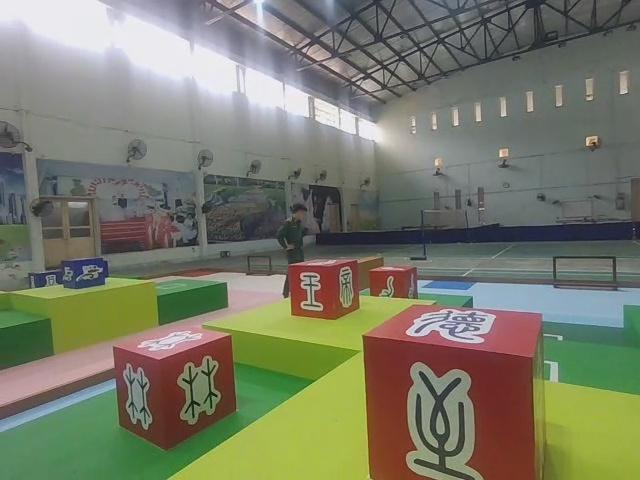R2 Fake: (359, 301, 550, 480), (286, 253, 362, 322)
R2 Real: (110, 320, 240, 455), (367, 263, 421, 303)
